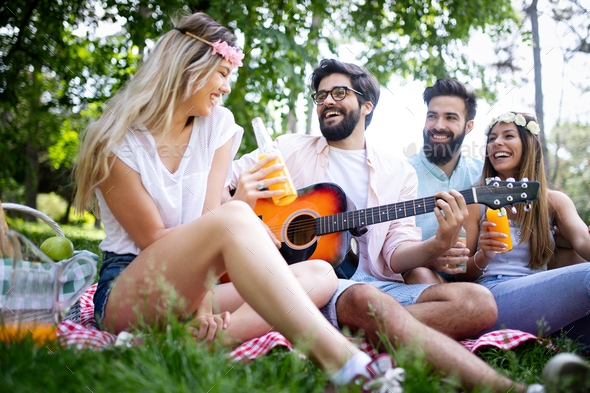Person: (69, 10, 408, 393), (233, 58, 548, 392), (463, 111, 590, 392), (402, 77, 485, 393)
